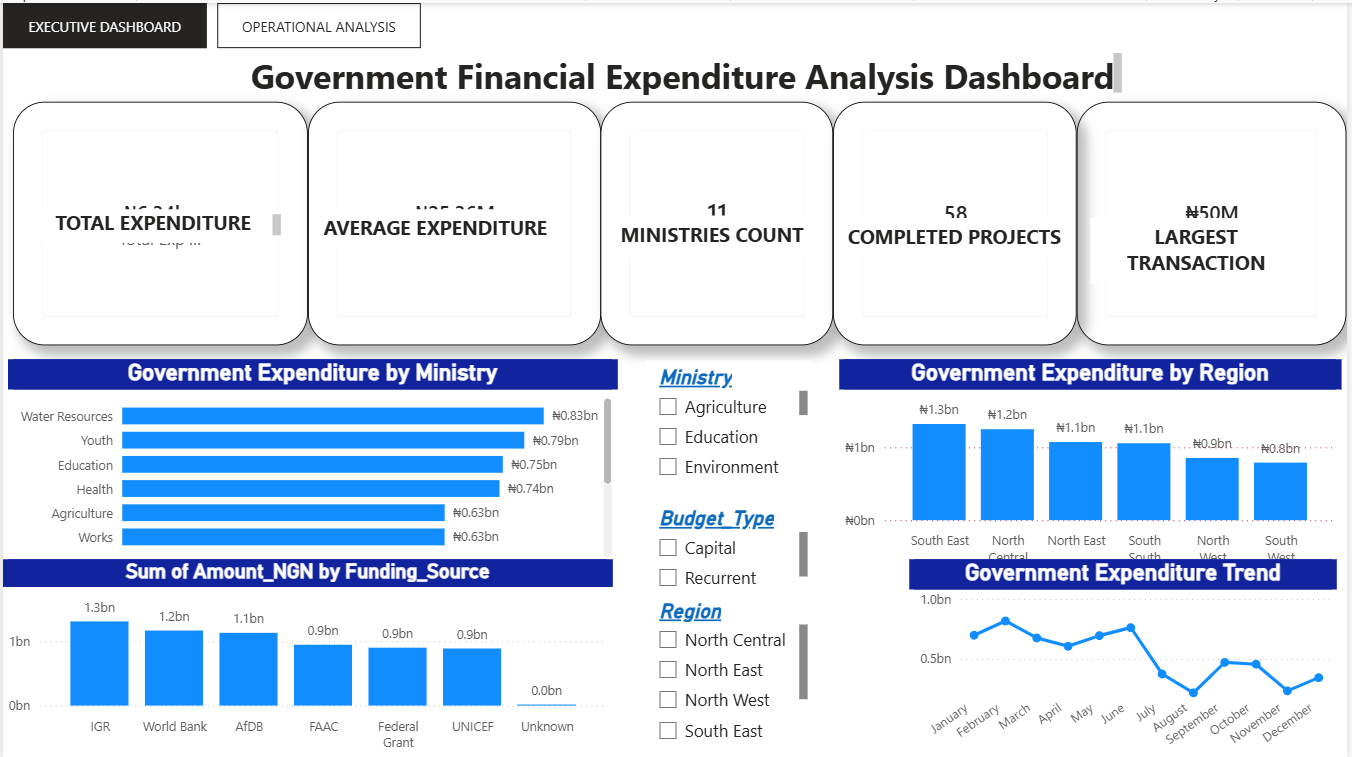

This screenshot's page, from the dashboard's own definition file:
{"tool":"powerbi","page":{"name":"EXECUTIVE DASHBOARD","canvas":[1280,720],"ordinal":0},"visuals":[{"type":"textbox","box":[207.3,43.2,863.7,49.7],"z":0},{"type":"cardVisual","fields":{"Data":["Fact_Government_Expenditure.Total Government Expenditure"]},"box":[9.5,93.8,280.7,232.2],"z":1000},{"type":"cardVisual","fields":{"Data":["Fact_Government_Expenditure.Largest Transaction"]},"box":[1023,93.8,256.4,232.2],"z":2000},{"type":"cardVisual","fields":{"Data":["Fact_Government_Expenditure.Average Government Expenditure"]},"box":[290.1,93.8,278.9,232.2],"z":3000},{"type":"cardVisual","fields":{"Data":["Fact_Government_Expenditure.Number of Ministries"]},"box":[569.1,93.8,221.8,232.2],"z":4000},{"type":"cardVisual","fields":{"Data":["Fact_Government_Expenditure.Completed Projects"]},"box":[790.9,93.8,232.2,232.2],"z":5000},{"type":"textbox","box":[23.8,196.5,246.2,32.4],"z":6000},{"type":"textbox","box":[293.7,196.5,235.4,38.9],"z":7000},{"type":"textbox","box":[580.1,202.5,191,40.5],"z":8000},{"type":"textbox","box":[791.7,204.7,228.7,38.1],"z":9000},{"type":"textbox","box":[1036,204.7,201,62.4],"z":10000},{"type":"clusteredBarChart","title":"Government Expenditure by Ministry","fields":{"Category":["Fact_Government_Expenditure.Ministry"],"Y":["Fact_Government_Expenditure.Total Exp'ture"]},"box":[5.2,339.5,580.4,194],"z":11000},{"type":"clusteredColumnChart","title":"Government Expenditure by Region","fields":{"Category":["Fact_Government_Expenditure.Region"],"Y":["Fact_Government_Expenditure.Total Exp'ture"]},"box":[797,339.5,478.2,204.4],"z":12000},{"type":"clusteredColumnChart","fields":{"Category":["Fact_Government_Expenditure.Funding_Source"],"Y":["Sum(Fact_Government_Expenditure. Amount_NGN )"]},"box":[0,530.2,580.4,190.6],"z":13000},{"type":"lineChart","title":"Government Expenditure Trend","fields":{"Y":["Sum(Fact_Government_Expenditure. Amount_NGN )"],"Category":["Fact_Government_Expenditure.Month"]},"box":[862.8,530.2,407.1,190.6],"z":14000},{"type":"slicer","fields":{"Values":["Fact_Government_Expenditure.Ministry"]},"box":[611.9,340,159.1,120.1],"z":15000},{"type":"slicer","fields":{"Values":["Fact_Government_Expenditure.Budget_Type"]},"box":[611.6,474.7,159.4,88.4],"z":16000},{"type":"slicer","fields":{"Values":["Fact_Government_Expenditure.Region"]},"box":[611.6,563.1,159.4,145.5],"z":17000},{"type":"pageNavigator","box":[0,0,399.5,43.2],"z":18000}]}

Visuals, with their boxes in screenshot pixels (x1, y1, x2, y2), scaled from the page's 1280x720 canvas onto the 1352x757 screenshot:
textbox: bbox=[219, 45, 1131, 98]
cardVisual - Fact_Government_Expenditure.Total Government Expenditure: bbox=[10, 99, 307, 343]
cardVisual - Fact_Government_Expenditure.Largest Transaction: bbox=[1081, 99, 1351, 343]
cardVisual - Fact_Government_Expenditure.Average Government Expenditure: bbox=[306, 99, 601, 343]
cardVisual - Fact_Government_Expenditure.Number of Ministries: bbox=[601, 99, 835, 343]
cardVisual - Fact_Government_Expenditure.Completed Projects: bbox=[835, 99, 1081, 343]
textbox: bbox=[25, 207, 285, 241]
textbox: bbox=[310, 207, 559, 247]
textbox: bbox=[613, 213, 814, 255]
textbox: bbox=[836, 215, 1078, 255]
textbox: bbox=[1094, 215, 1307, 281]
"Government Expenditure by Ministry" clusteredBarChart: bbox=[5, 357, 619, 561]
"Government Expenditure by Region" clusteredColumnChart: bbox=[842, 357, 1347, 572]
clusteredColumnChart - Fact_Government_Expenditure.Funding_Source x Sum(Fact_Government_Expenditure. Amount_NGN ): bbox=[0, 557, 613, 756]
"Government Expenditure Trend" lineChart: bbox=[911, 557, 1341, 756]
slicer - Fact_Government_Expenditure.Ministry: bbox=[646, 357, 814, 484]
slicer - Fact_Government_Expenditure.Budget_Type: bbox=[646, 499, 814, 592]
slicer - Fact_Government_Expenditure.Region: bbox=[646, 592, 814, 745]
pageNavigator: bbox=[0, 0, 422, 45]
